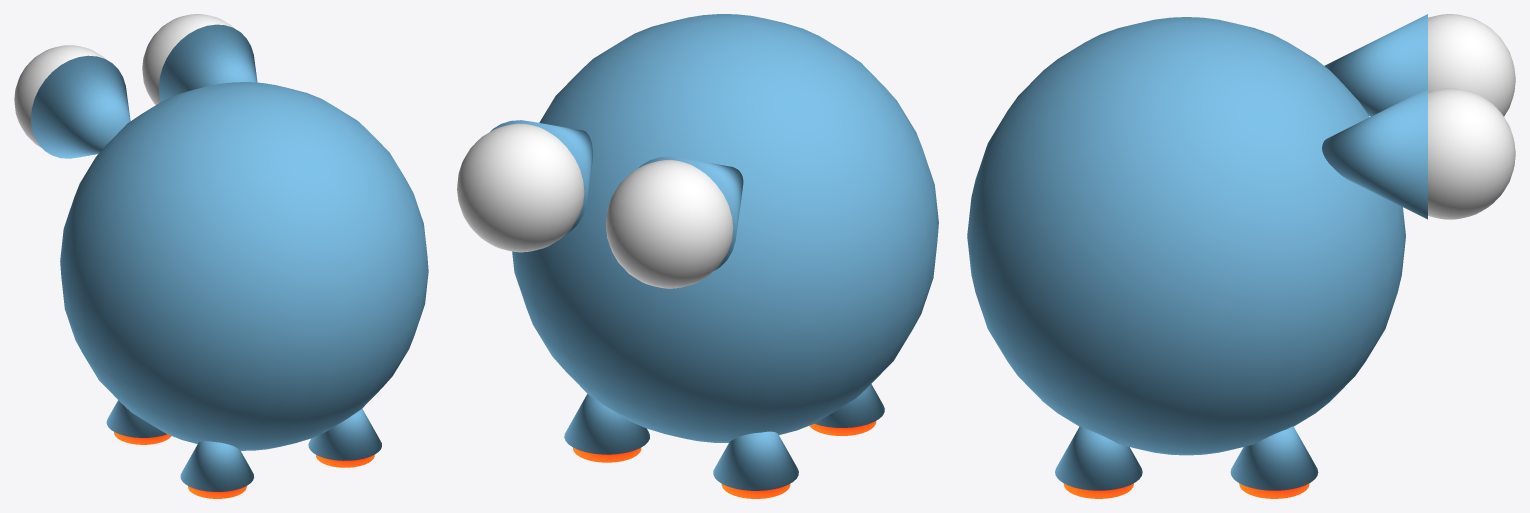
The model's file is Player.glb.
3 views of the same model, side by side, from view 1: azimuth 30°, elevation 25°; view 2: azimuth 150°, elevation 25°; view 3: azimuth 270°, elevation 25° (orthographic). The views are drawn at different scales.
Parts seen in each view (by area): view 1: Sphere, Cone, Cone.001, Cone.003, Cone.002, Sphere.001, Sphere.002, Cone.004; view 2: Sphere, Sphere.001, Sphere.002, Cone.004, Cone.005, Cone, Cone.001, Cone.003, Cylinder.003, Cylinder.002; view 3: Sphere, Sphere.002, Cone.001, Sphere.001, Cone, Cone.002, Cone.005.
Part boxes in pixels (left/top/right/bottom): Sphere: left=60, top=82, right=428, bottom=450; Cone: left=31, top=55, right=130, bottom=158; Cone.001: left=159, top=24, right=257, bottom=101; Cone.003: left=180, top=441, right=254, bottom=491; Cone.002: left=308, top=408, right=381, bottom=460; Sphere.001: left=14, top=45, right=105, bottom=147; Sphere.002: left=142, top=14, right=233, bottom=104; Cone.004: left=106, top=400, right=166, bottom=437; Sphere: left=512, top=14, right=938, bottom=442; Sphere.001: left=606, top=160, right=733, bottom=288; Sphere.002: left=457, top=123, right=584, bottom=252; Cone.004: left=713, top=431, right=798, bottom=490; Cone.005: left=564, top=394, right=649, bottom=454; Cone: left=639, top=156, right=743, bottom=270; Cone.001: left=490, top=120, right=592, bottom=234; Cone.003: left=814, top=384, right=884, bottom=427; Cylinder.003: left=573, top=447, right=641, bottom=462; Cylinder.002: left=721, top=484, right=790, bottom=498; Sphere: left=967, top=17, right=1405, bottom=455; Sphere.002: left=1428, top=88, right=1515, bottom=219; Cone.001: left=1322, top=88, right=1427, bottom=219; Sphere.001: left=1428, top=14, right=1515, bottom=116; Cone: left=1324, top=14, right=1427, bottom=116; Cone.002: left=1055, top=426, right=1142, bottom=490; Cone.005: left=1230, top=426, right=1318, bottom=490.
Size of the model in its own units: 1 by 1.03 by 1.25.
